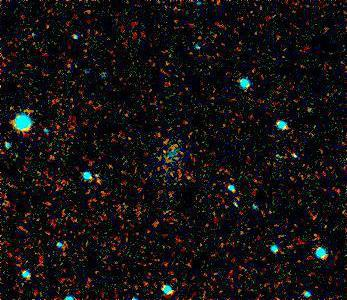star: (86, 169, 116, 199)
